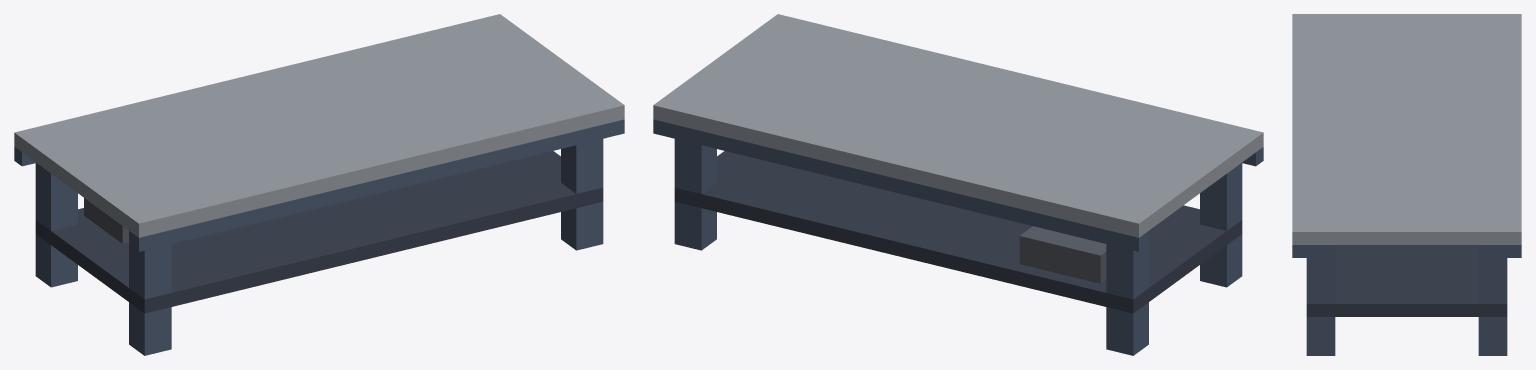
File: dome_bench.glb
3 renders of one model, left to right at view 1: azimuth 30°, elevation 25°; view 2: azimuth 150°, elevation 25°; view 3: azimuth 270°, elevation 25°, orthographic. The views are drawn at different scales.
Parts seen in each view (by area): view 1: bench; view 2: bench; view 3: bench.
Boxes of the visible parts, x1,y1,x2,y2 form: bench: (14, 14, 624, 355); bench: (653, 14, 1263, 355); bench: (1292, 14, 1521, 355).
Bounding box in the file's own units: 36 × 10 × 16.
